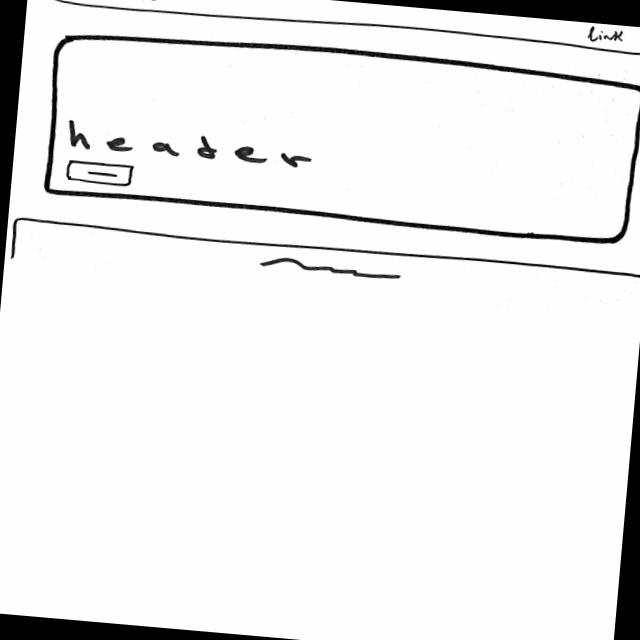container: (39, 23, 640, 248), (28, 0, 640, 58)
icon-button: (62, 158, 136, 188)
label: (64, 117, 318, 171), (584, 24, 626, 44)
